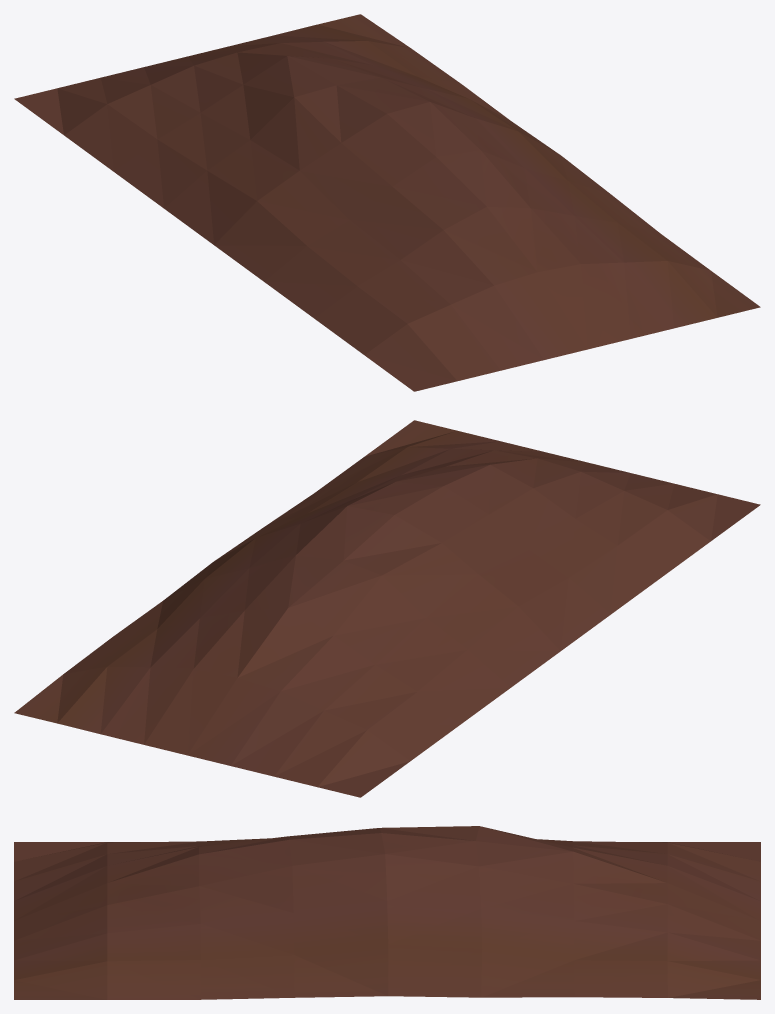
Rendered from mod_groundLayering_1x2.fbx.
3 views of the same model, one above another, from view 1: azimuth 30°, elevation 25°; view 2: azimuth 150°, elevation 25°; view 3: azimuth 270°, elevation 25° (orthographic). The views are drawn at different scales.
Visible parts, largest first — view 1: mod_groundLayering_1x2; view 2: mod_groundLayering_1x2; view 3: mod_groundLayering_1x2.
Boxes of the visible parts, x1,y1,x2,y2 form: mod_groundLayering_1x2: [14, 14, 760, 391]; mod_groundLayering_1x2: [14, 420, 760, 797]; mod_groundLayering_1x2: [14, 826, 760, 999].
Bounding box in the file's own units: 100 × 25.5 × 200.
